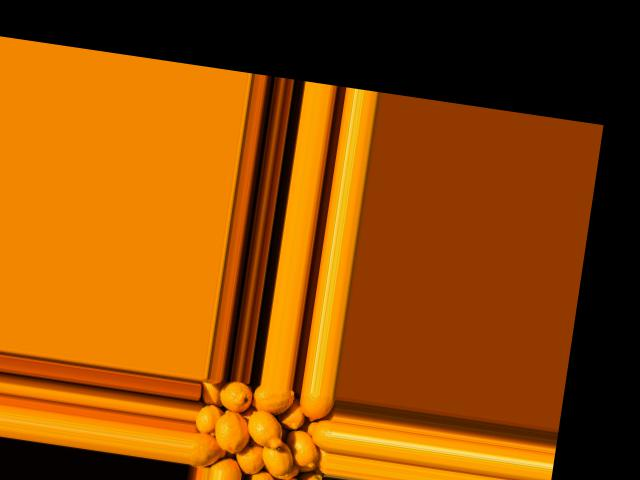lemon: (261, 441, 299, 480)
